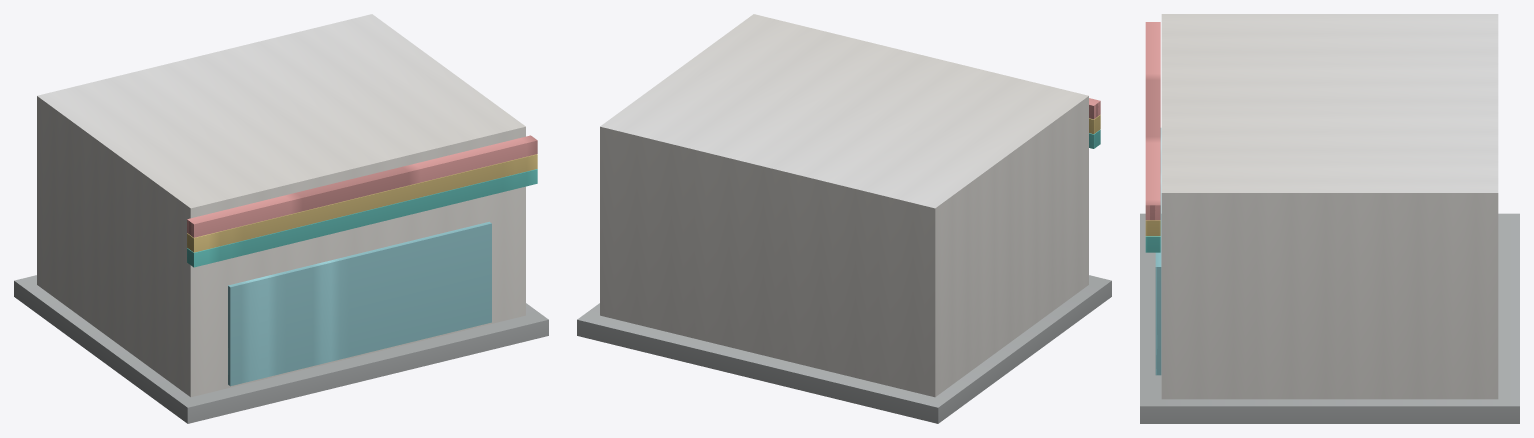
The model's file is mini_mart.glb.
The picture shows the model from 3 angles, left to right: view 1: azimuth 30°, elevation 25°; view 2: azimuth 150°, elevation 25°; view 3: azimuth 270°, elevation 25°; orthographic projection. The views are drawn at different scales.
Visible parts, largest first — view 1: mini_mart; view 2: mini_mart; view 3: mini_mart.
Part boxes in pixels (bbox=[...]): mini_mart: bbox=[14, 14, 548, 423]; mini_mart: bbox=[577, 14, 1111, 423]; mini_mart: bbox=[1140, 14, 1519, 423].
Size of the model in its own units: 8.4 by 4.56 by 7.
1 material, 1 textured.
